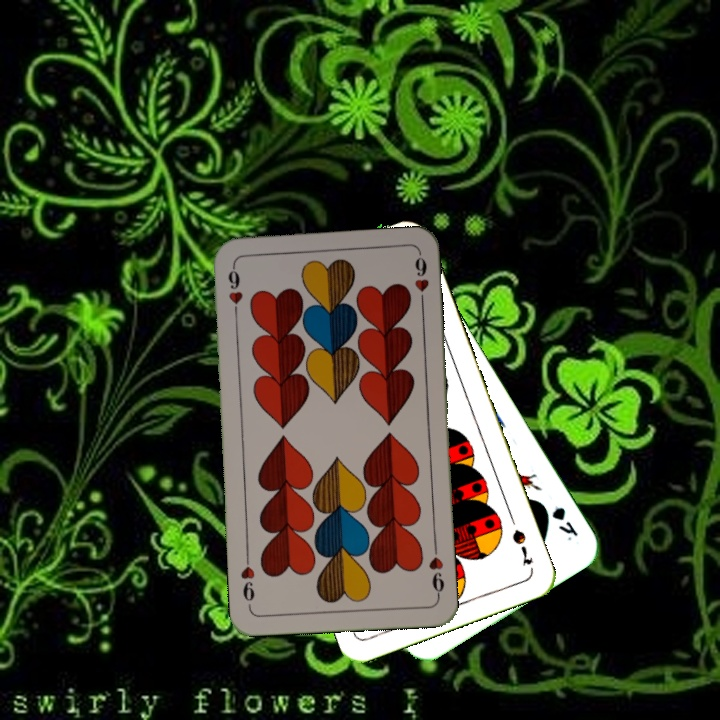GK: (547, 503, 581, 544)
H9: (425, 541, 447, 600), (224, 261, 245, 320)
S7: (508, 525, 536, 569)
